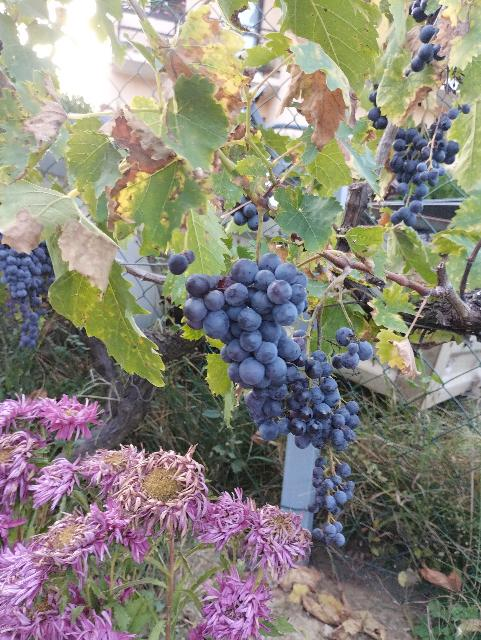grapes: (184, 252, 308, 440), (276, 350, 360, 546), (390, 108, 461, 226), (282, 351, 361, 451), (0, 242, 55, 348), (309, 458, 355, 546), (332, 328, 374, 370)
